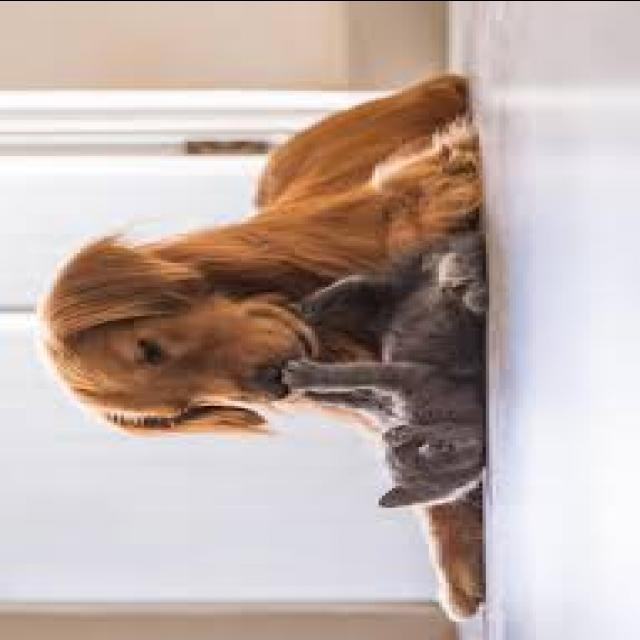cat: (286, 247, 508, 511)
dog: (31, 71, 486, 437)
